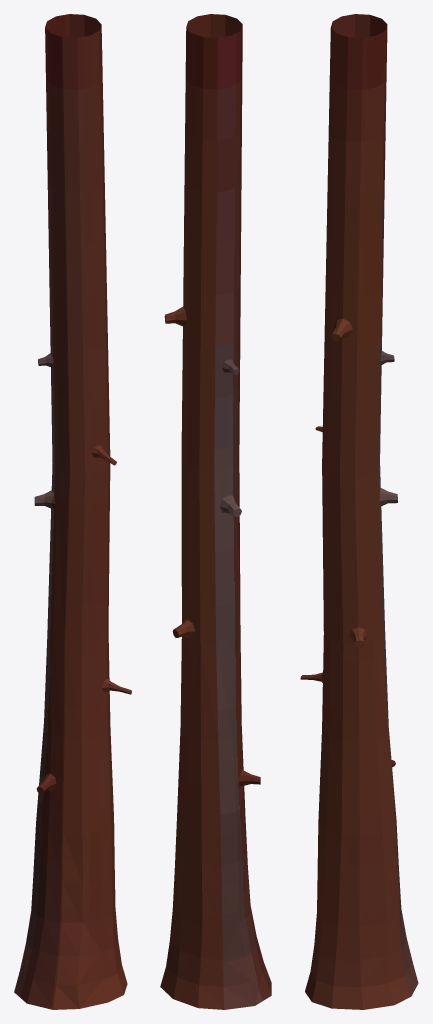
Rendered from Tree_01.fbx.
3 views of the same model, side by side, from view 1: azimuth 90°, elevation 25°; view 2: azimuth 210°, elevation 25°; view 3: azimuth 270°, elevation 25° (orthographic).
Parts seen in each view (by area): view 1: SM_Tree_01.mo; view 2: SM_Tree_01.mo; view 3: SM_Tree_01.mo.
Boxes of the visible parts, <box> form: SM_Tree_01.mo: <box>14,14,131,1009</box>; SM_Tree_01.mo: <box>160,14,271,1009</box>; SM_Tree_01.mo: <box>300,14,418,1009</box>.
Size of the model in its own units: 132 by 1338 by 149.
